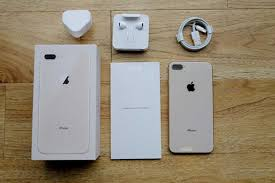iphone: (34, 46, 91, 155), (165, 58, 218, 156)
iphone8: (165, 58, 218, 156)
